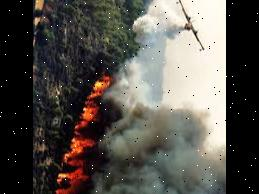fire: (46, 70, 116, 194)
